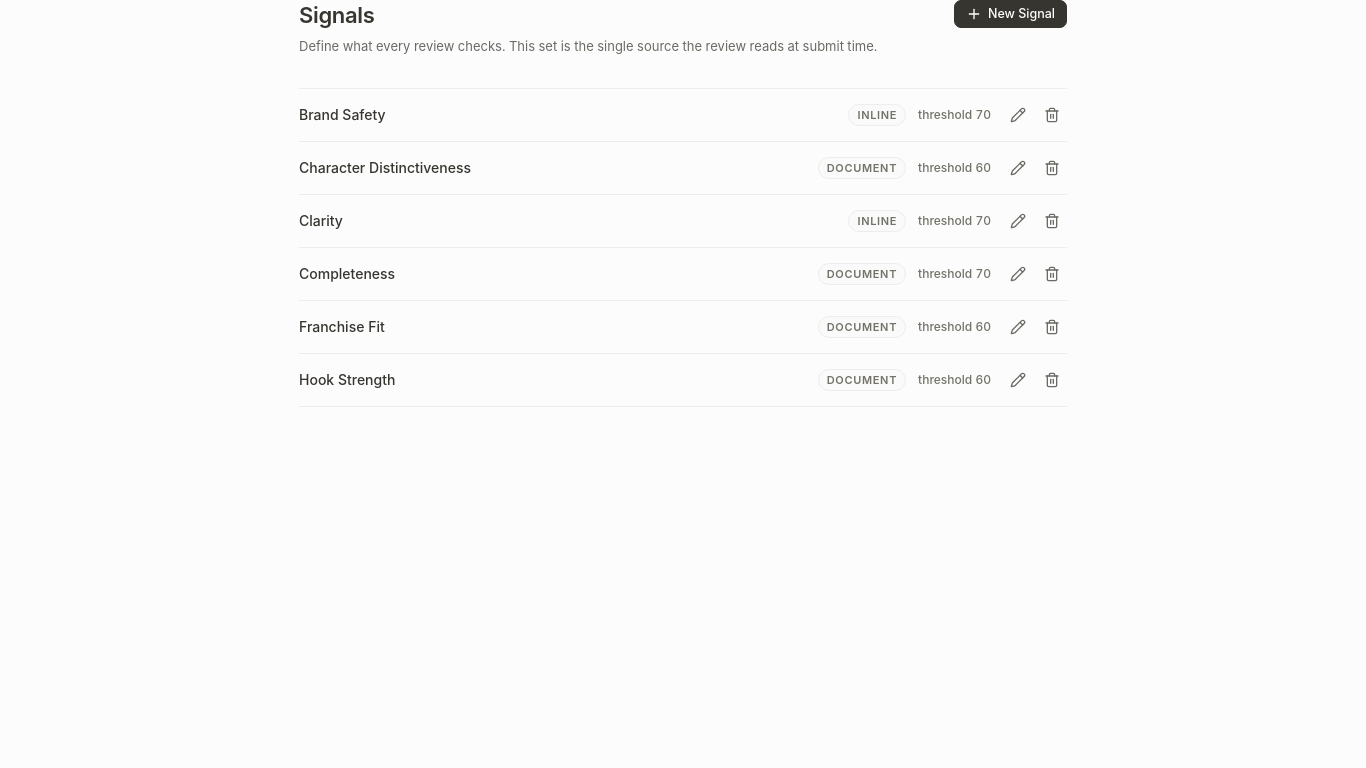
Test: SignalsAdminPage › deletes a signal after confirmation and removes it from list()
The width and height of the screenshot is (1366, 768).
Expected: the list named "Signals" is shown, [299,88,1067,407]
Step 1. Click the button named "Delete Hook Strength" → (1052, 380), box [1037,366,1067,394]
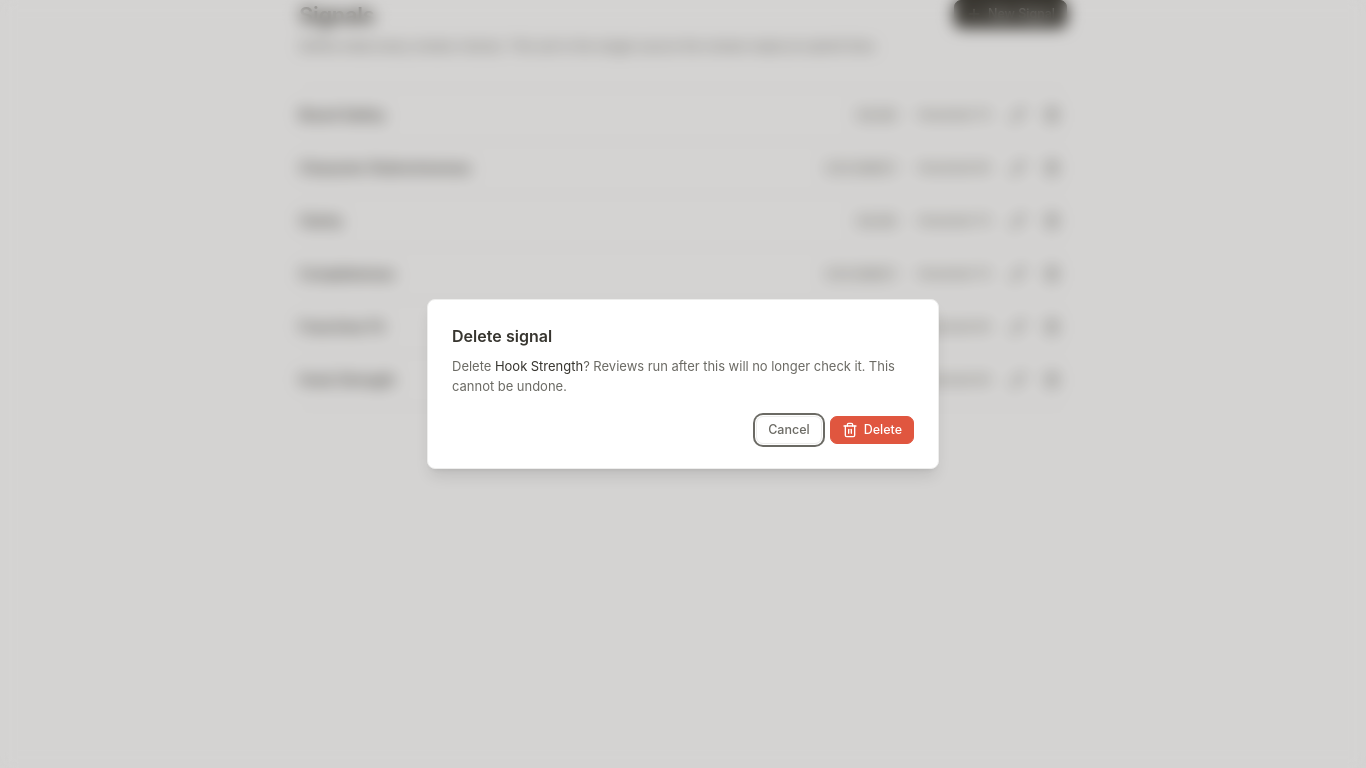
Step 2. Click the button "Delete" → (872, 430), box [830,416,914,444]
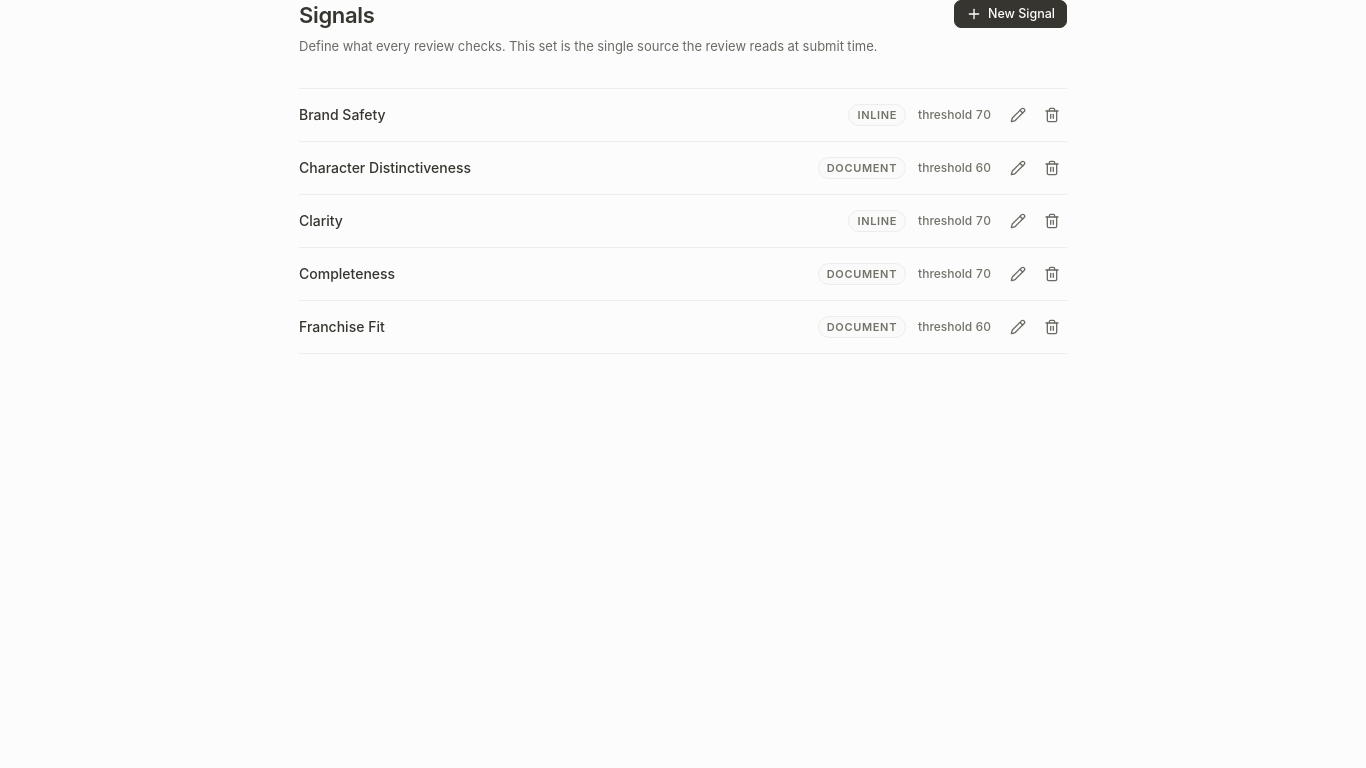
Expected: the button "Hook Strength" is gone
